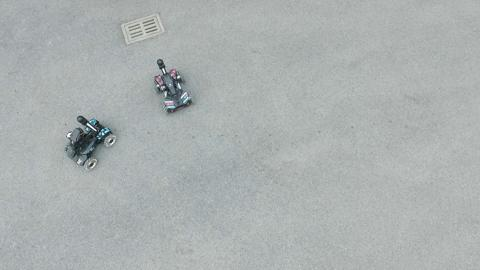chariot: (62, 113, 117, 171), (149, 57, 193, 114)
